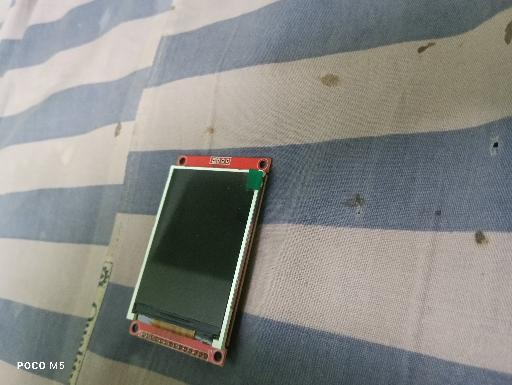Display: (124, 154, 273, 369)
